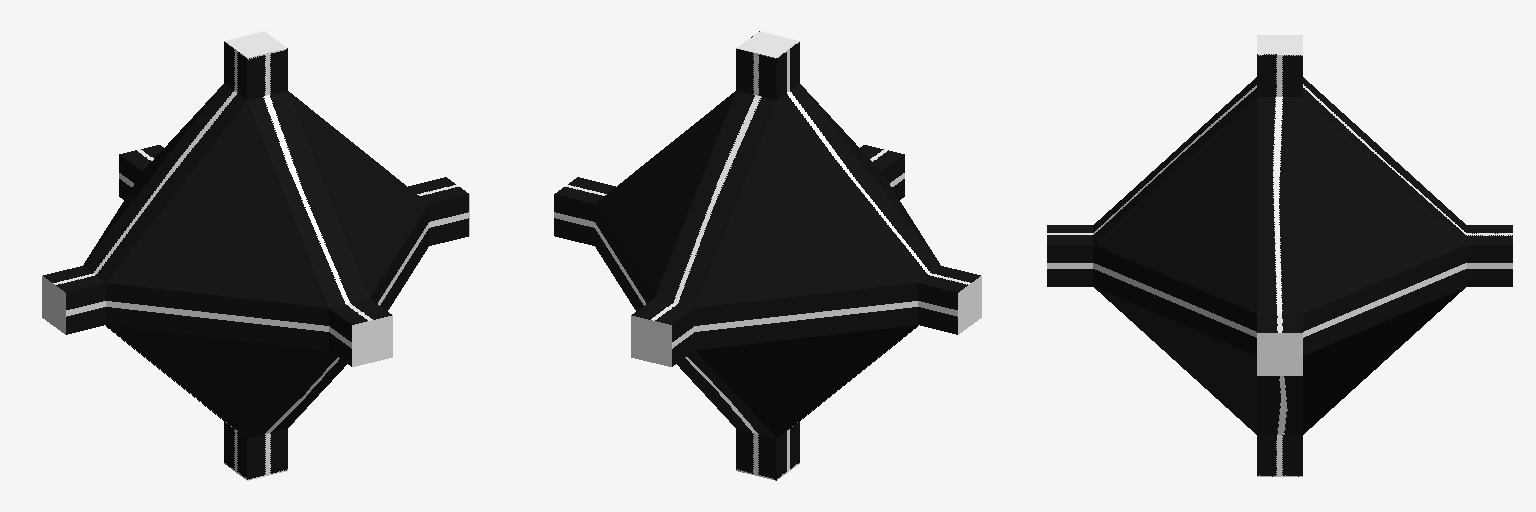
3 views of the same model, side by side, from view 1: azimuth 30°, elevation 25°; view 2: azimuth 150°, elevation 25°; view 3: azimuth 270°, elevation 25° (orthographic).
Parts seen in each view (by area): view 1: BossMaterial; view 2: BossMaterial; view 3: BossMaterial.
Part boxes in pixels (x1,y1,x2,y2): BossMaterial: (42, 31, 469, 480); BossMaterial: (554, 31, 981, 480); BossMaterial: (1047, 35, 1512, 476).
Bounding box in the file's own units: 3 × 3 × 3.
Materials: 1 (1 with a texture image).